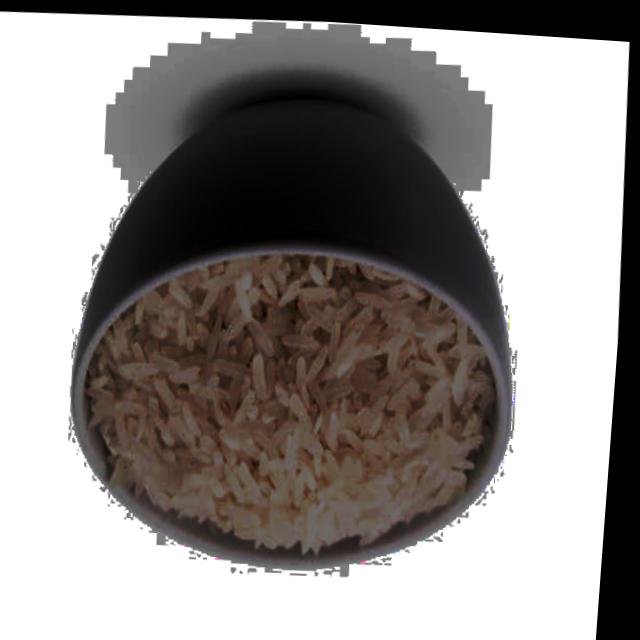rice: (66, 233, 510, 574)
